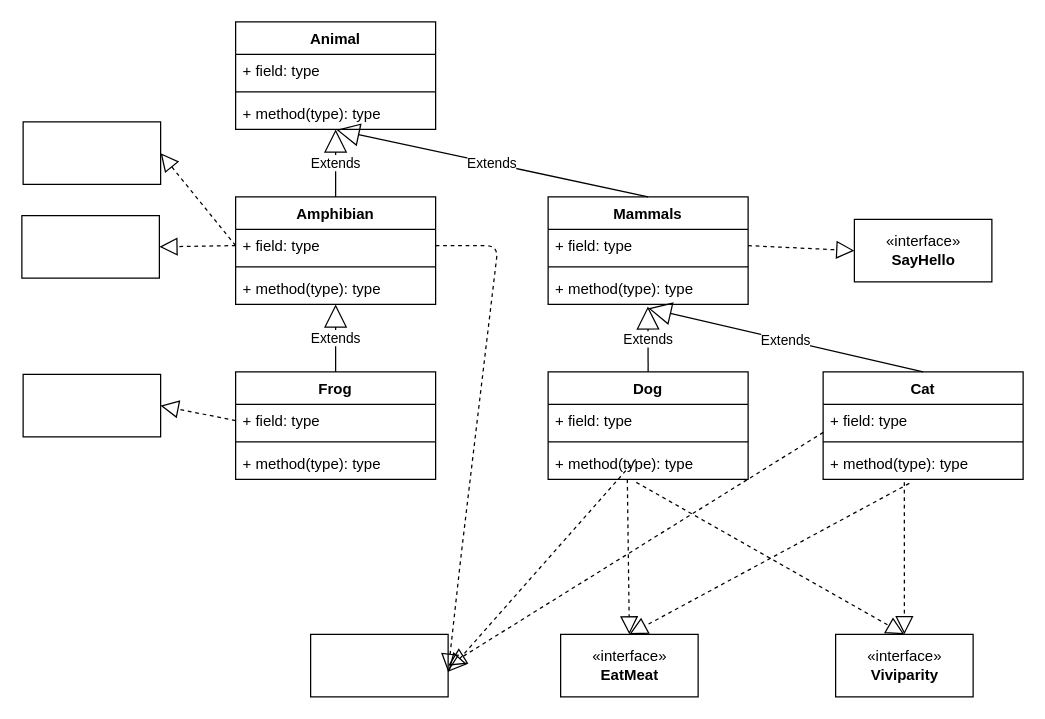
Image size: 1045x719. Some labels were removed from this diagram. Here are the shapes that lost their labels. From the top down, the centre of each, then its label:
point 91,152: «interface» WaterAnimal
point 90,246: «interface» EggLay
point 91,405: «interface» EatPlant
point 378,665: «interface» LandAnimal
